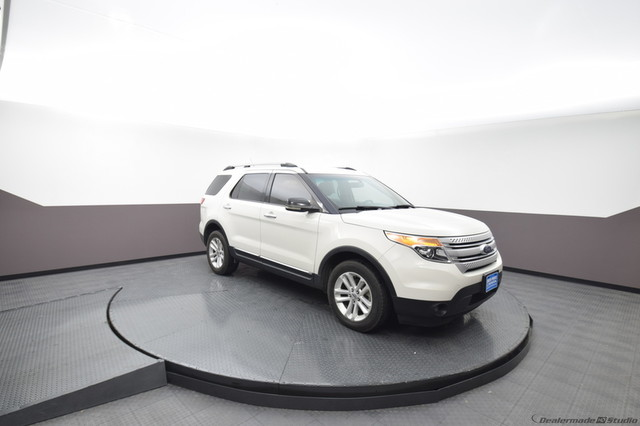Ford Explorer: (200, 164, 502, 334)
